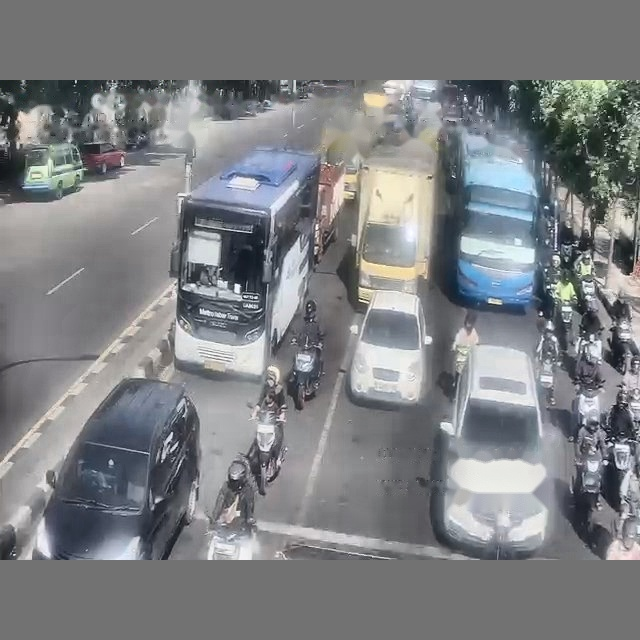Bis: (170, 149, 320, 376), (456, 152, 538, 306)
Mobil: (32, 378, 200, 559), (439, 344, 551, 554), (348, 290, 431, 404), (274, 543, 400, 559), (80, 142, 125, 174), (126, 129, 149, 149)
Motor: (246, 409, 286, 494), (572, 441, 607, 535), (289, 336, 321, 410), (207, 519, 255, 559), (610, 317, 631, 374), (575, 383, 602, 427), (537, 355, 555, 404), (576, 332, 602, 363), (558, 301, 573, 351), (579, 274, 596, 308), (559, 242, 577, 270)
Truk: (350, 138, 437, 304)
